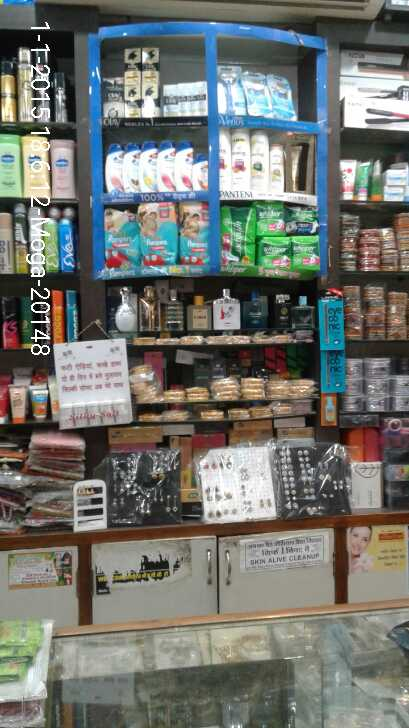venus: (218, 71, 245, 115), (245, 71, 269, 119), (269, 75, 294, 119)
